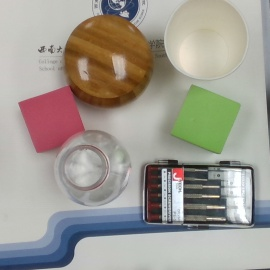bottle: (57, 129, 132, 206)
chess: (63, 14, 155, 105)
cup: (164, 1, 248, 78)
